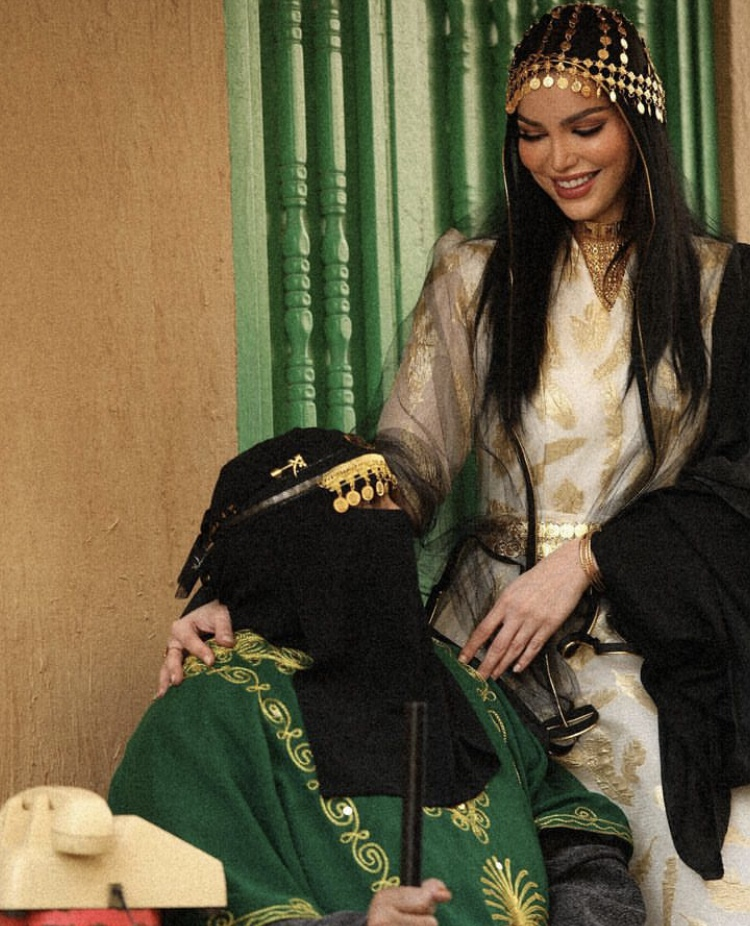Saudi_Founding_Day: (366, 3, 750, 926), (101, 423, 652, 926)
